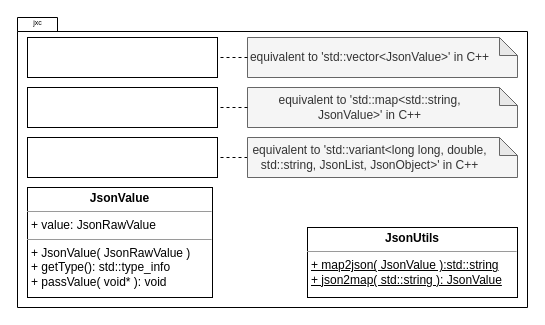
This 545x325 diagram has some shape labels left out. Each missing label, with the centre of its shape:
<<typedef>> JsonList: point 122,57
<<typedef>> JsonObject: point 122,107
<<typedef>> JsonRawValue: point 122,157
